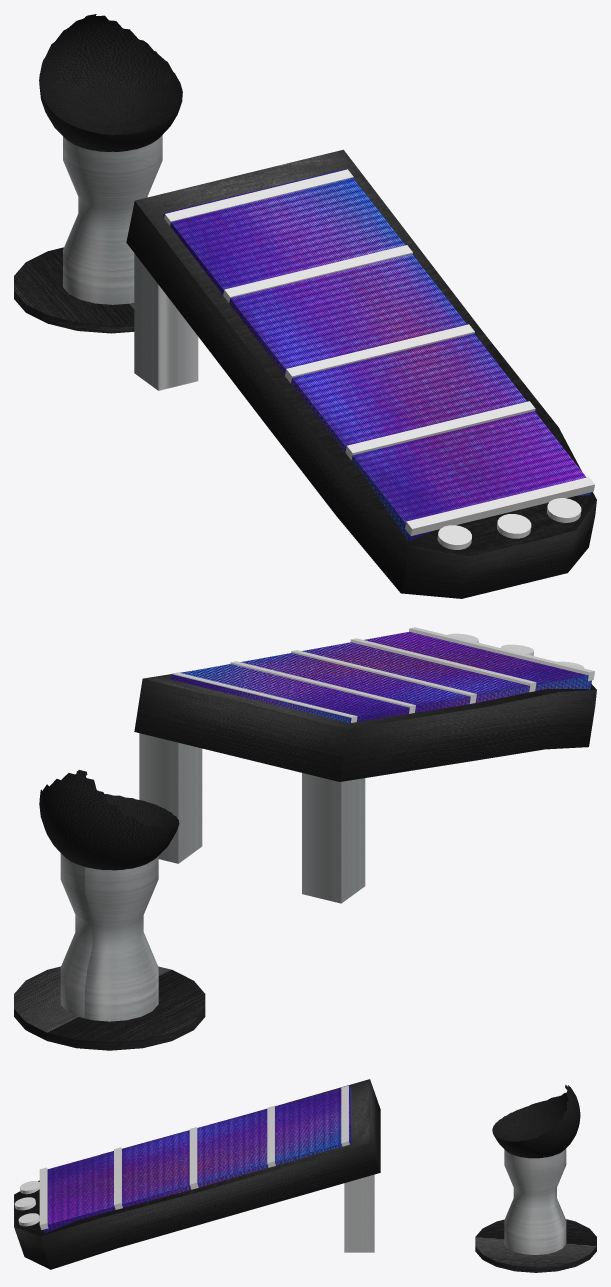
Rendered from chase desk and chair.fbx.
3 views of the same model, one above another, from view 1: azimuth 30°, elevation 25°; view 2: azimuth 150°, elevation 25°; view 3: azimuth 270°, elevation 25° (orthographic). The views are drawn at different scales.
Parts seen in each view (by area): view 1: Box004, Box001, Sphere001, Cylinder005, Box002, Cylinder004, Box009, Box007, Box006, Box005, Box008; view 2: Box001, Box004, Cylinder005, Sphere001, Cylinder004, Box002, Box003, Box009, Box007, Box006, Box005, Box008; view 3: Box004, Box001, Cylinder005, Sphere001, Cylinder004, Box003, Box006, Box009, Box007, Box005, Box008.
Boxes of the visible parts, box(x1,y1,x2,y2) form: Box004: box(163, 169, 591, 540); Box001: box(126, 149, 596, 598); Sphere001: box(39, 14, 182, 151); Cylinder005: box(63, 135, 162, 304); Box002: box(134, 253, 198, 390); Cylinder004: box(14, 247, 134, 333); Box009: box(405, 477, 594, 535); Box007: box(345, 401, 535, 459); Box006: box(285, 324, 474, 383); Box005: box(223, 245, 412, 302); Box008: box(164, 169, 353, 225); Box001: box(134, 671, 596, 781); Box004: box(170, 631, 591, 722); Cylinder005: box(60, 853, 158, 1021); Sphere001: box(39, 770, 179, 870); Cylinder004: box(14, 966, 205, 1050); Box002: box(302, 773, 365, 903); Box003: box(139, 733, 202, 863); Box009: box(409, 627, 594, 680); Box007: box(350, 638, 536, 692); Box006: box(291, 650, 476, 703); Box005: box(230, 661, 415, 713); Box008: box(172, 672, 357, 722); Box004: box(43, 1086, 351, 1233); Box001: box(14, 1079, 380, 1269); Cylinder005: box(504, 1148, 566, 1254); Sphere001: box(492, 1085, 580, 1158); Cylinder004: box(475, 1219, 596, 1272); Box003: box(344, 1174, 374, 1252); Box006: box(189, 1127, 198, 1189); Box009: box(39, 1167, 48, 1229); Box007: box(114, 1147, 122, 1209); Box005: box(267, 1105, 275, 1167); Box008: box(341, 1085, 349, 1146).
Bounding box in the file's own units: 22.6 × 26.78 × 87.38.
4 materials, 4 textured.
